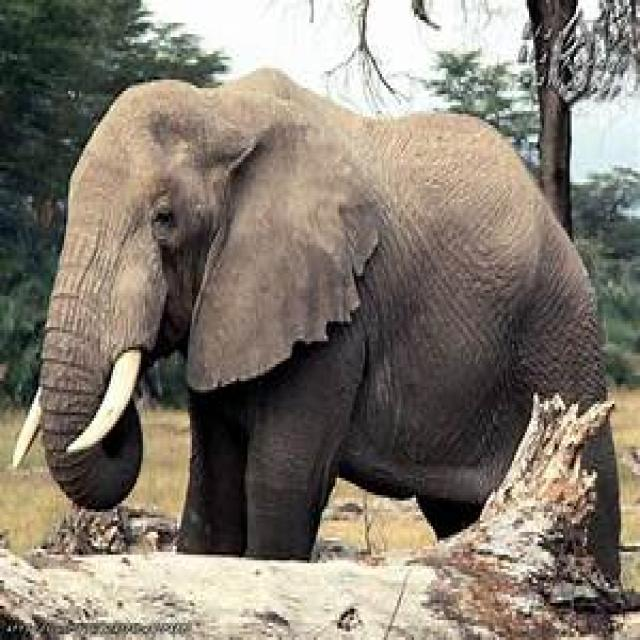elephant: (34, 68, 610, 563)
